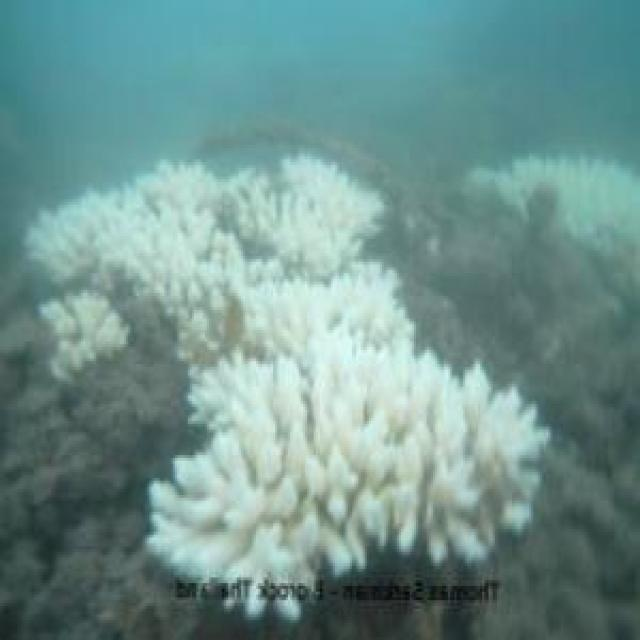bleached coral: (150, 262, 548, 582), (29, 155, 382, 316), (73, 168, 218, 276), (476, 151, 640, 228), (233, 501, 367, 583), (228, 361, 314, 484), (235, 174, 352, 262), (149, 486, 260, 569), (459, 364, 535, 475), (311, 307, 414, 384), (348, 421, 435, 498), (43, 293, 128, 370), (30, 193, 117, 267), (192, 293, 245, 350)
